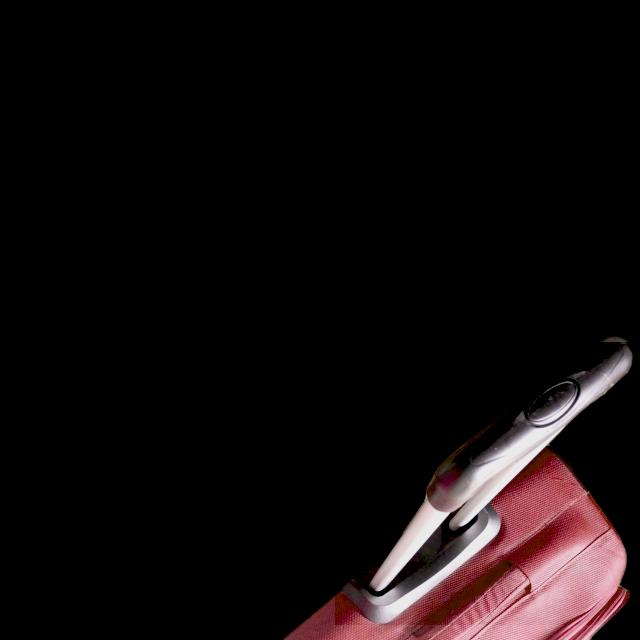Bag: (210, 351, 639, 640)
Handle: (369, 347, 637, 598)
